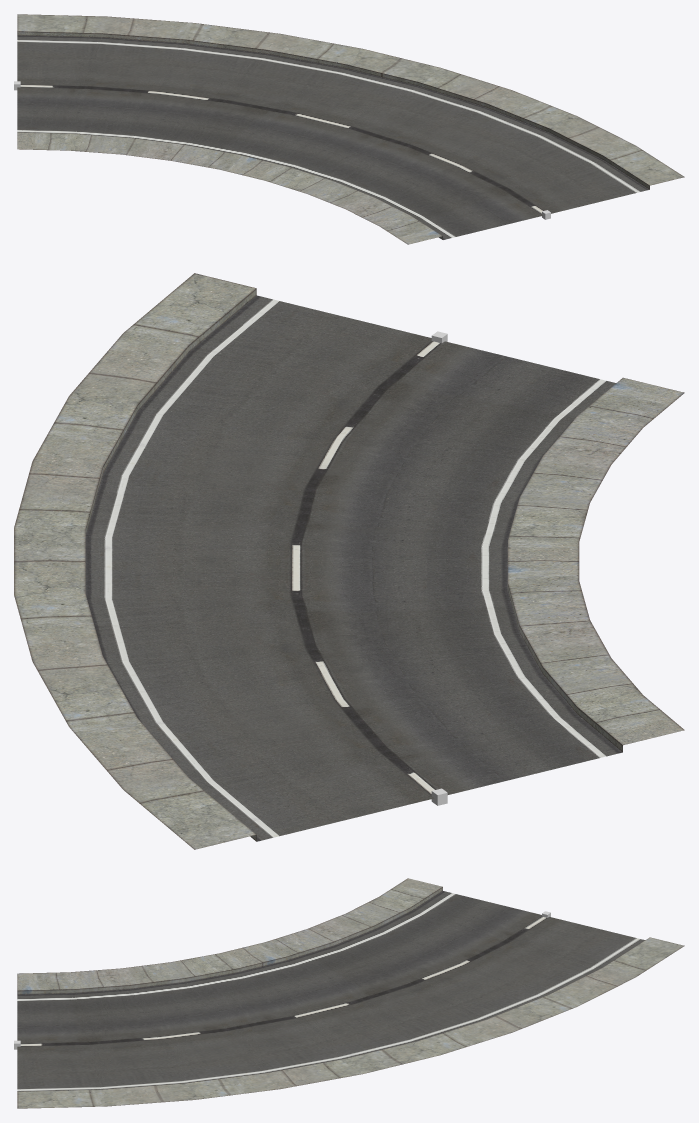
The model's file is roadBend60.L.fbx.
3 views of the same model, one above another, from view 1: azimuth 30°, elevation 25°; view 2: azimuth 150°, elevation 25°; view 3: azimuth 270°, elevation 25° (orthographic). The views are drawn at different scales.
Visible parts, largest first — view 1: MESH roadBend60.L; view 2: MESH roadBend60.L; view 3: MESH roadBend60.L.
Boxes of the visible parts, <box> form: MESH roadBend60.L: <box>17,14,684,244</box>; MESH roadBend60.L: <box>14,273,684,849</box>; MESH roadBend60.L: <box>17,878,684,1108</box>.
Size of what is drawn, in the model's own units: 4092 by 58.34 by 5034.
